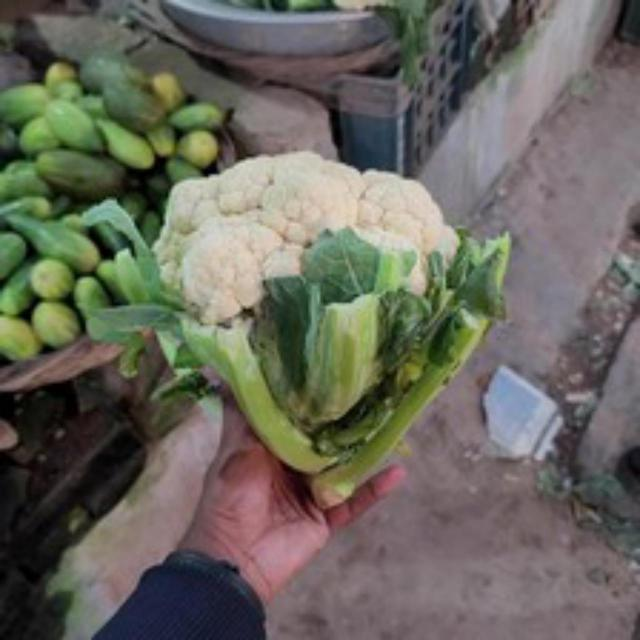cauliflower: (166, 146, 483, 328)
